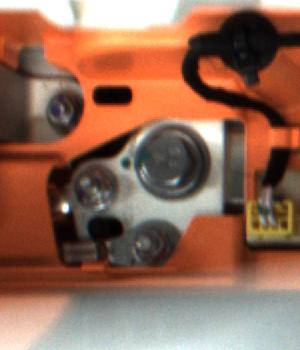nut_b: (128, 118, 214, 205)
